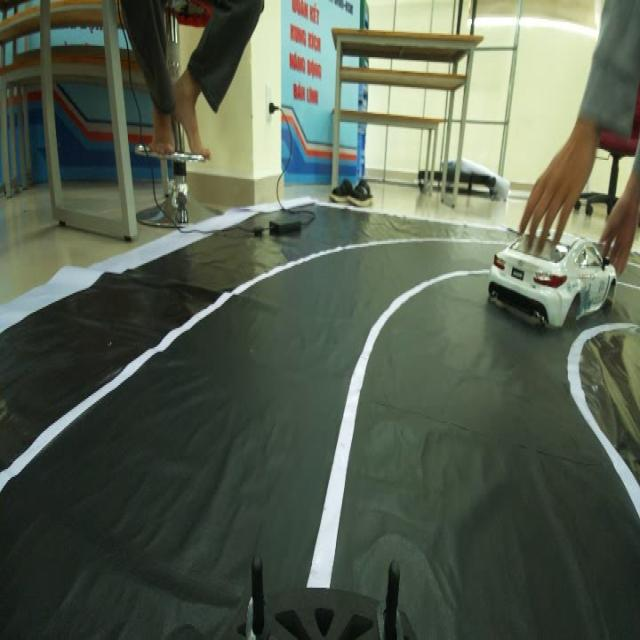car: (492, 218, 626, 329)
